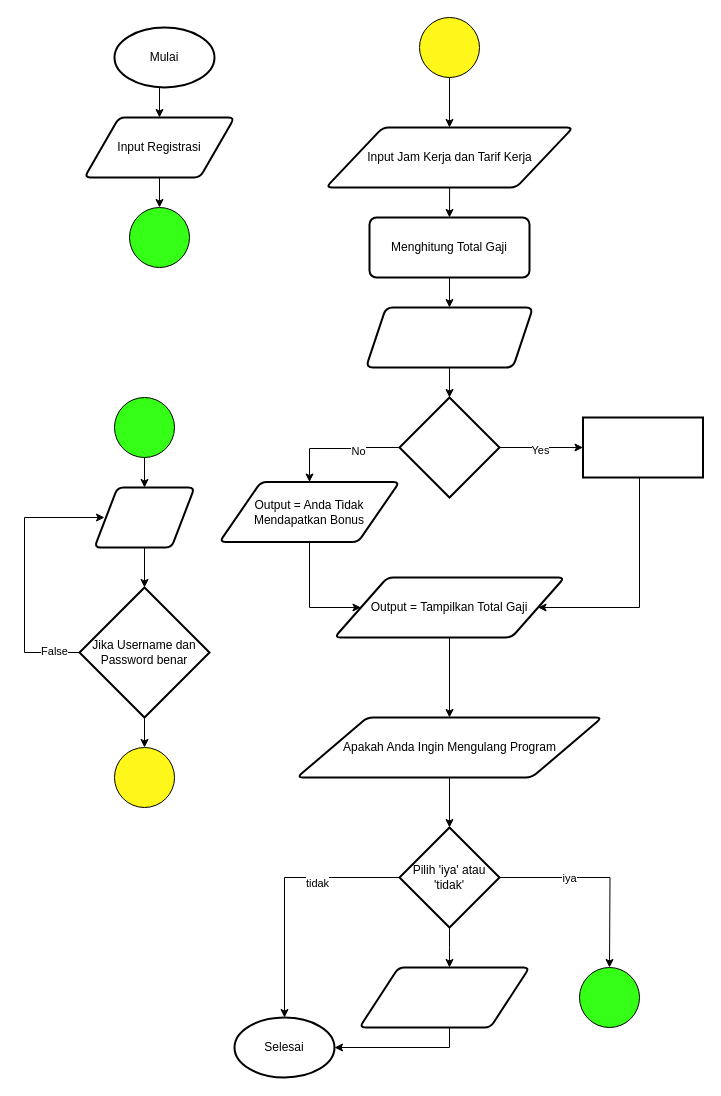
The diagram is 721 pixels wide and 1096 high, and some of its shapes have lost their labels. Here are the shapes that lost their labels. From the top down, the box of each, then its label:
(364, 306, 534, 368): Tampilkan Total Gaji
(398, 396, 500, 498): Jam Kerja > 160
(582, 416, 704, 478): Menghitung Gaji dan Mendapatkan Bonus
(93, 486, 195, 548): Input Login
(358, 966, 530, 1028): Pilihan anda tidak valid
